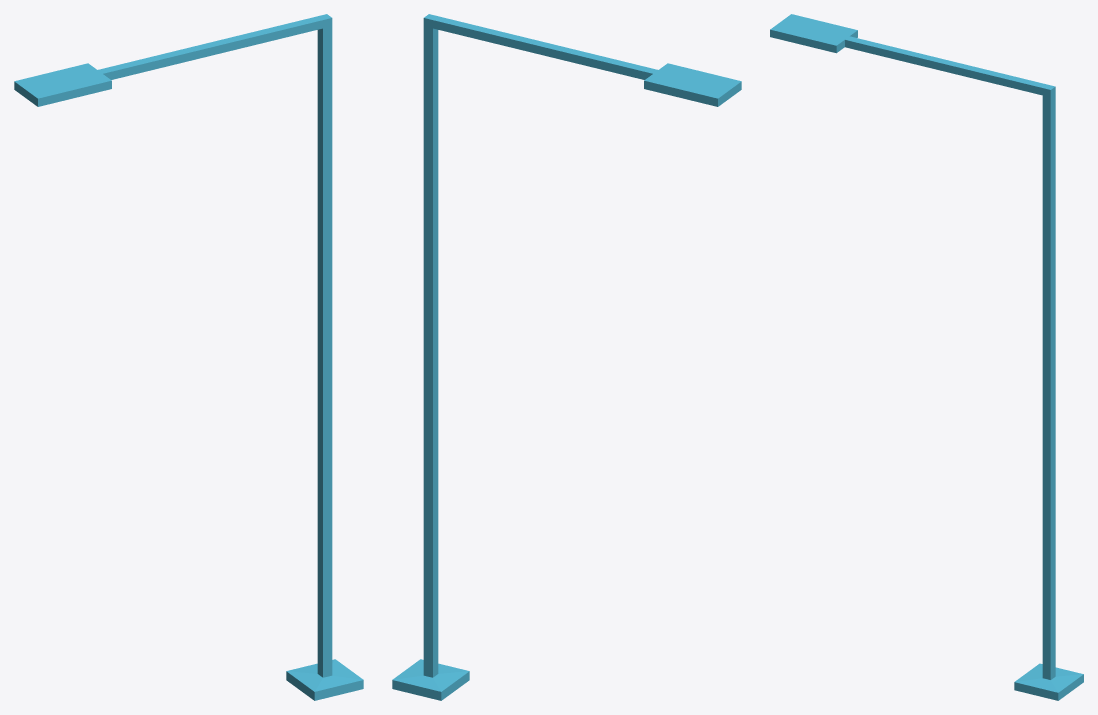
Rendered from streetlight.glb.
The picture shows the model from 3 angles, left to right: view 1: azimuth 30°, elevation 25°; view 2: azimuth 150°, elevation 25°; view 3: azimuth 330°, elevation 25°; orthographic projection. The views are drawn at different scales.
Parts seen in each view (by area): view 1: streetLight.mesh; view 2: streetLight.mesh; view 3: streetLight.mesh.
Boxes of the visible parts, left/top/right/bottom form: streetLight.mesh: left=14, top=14, right=363, bottom=700; streetLight.mesh: left=392, top=14, right=741, bottom=700; streetLight.mesh: left=770, top=14, right=1083, bottom=700.
Bounding box in the file's own units: 2.03 × 4 × 0.308.
